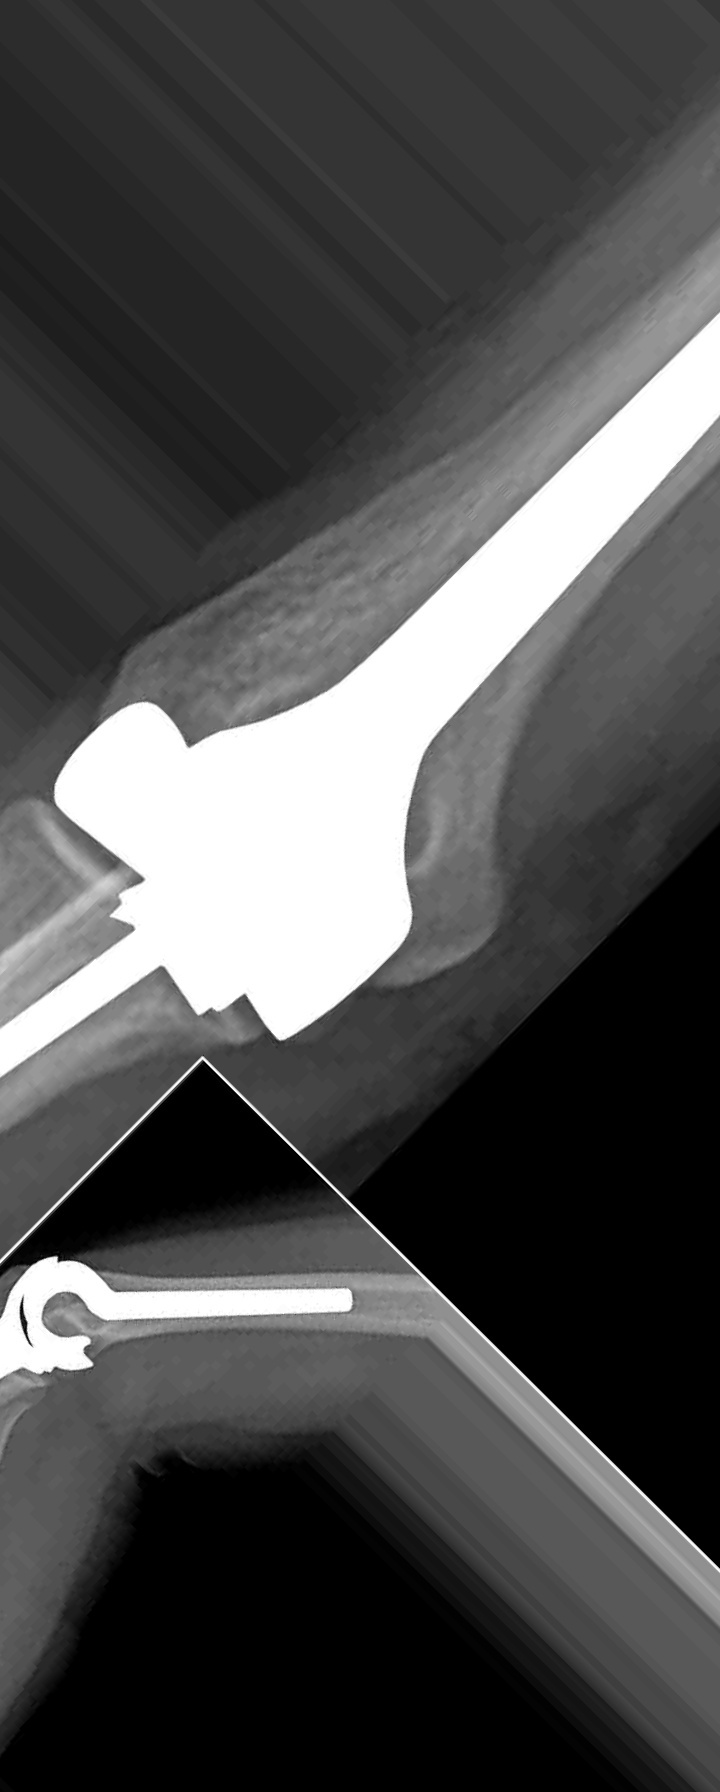Elbow - IBP - Biomet: (8, 186, 720, 1053), (1, 1246, 395, 1402)
